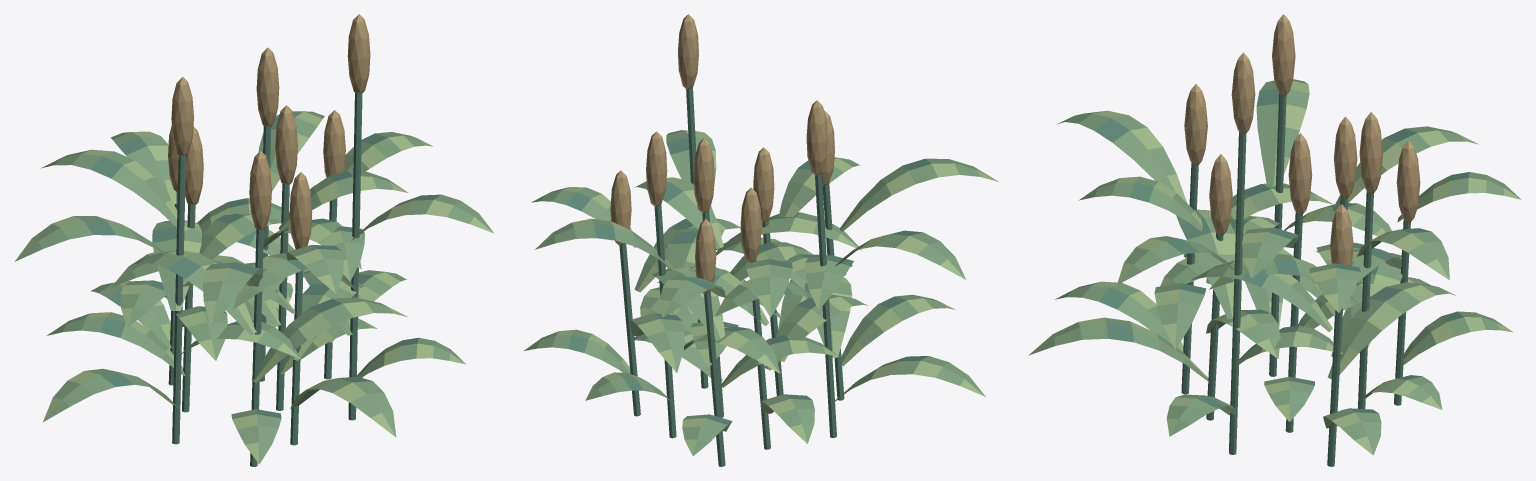
Rendered from reed_patch.glb.
3 views of the same model, side by side, from view 1: azimuth 30°, elevation 25°; view 2: azimuth 150°, elevation 25°; view 3: azimuth 270°, elevation 25° (orthographic). The views are drawn at different scales.
Visible parts, largest first — view 1: Curved reed leaf.007, Curved reed leaf.029, Curved reed leaf.008, Curved reed leaf.019, Curved reed leaf.004, Curved reed leaf.031, Curved reed leaf.016, Reed stem.004, Curved reed leaf.027, Curved reed leaf.023, Reed stem.005, Curved reed leaf.030 (+35 smaller); view 2: Curved reed leaf.031, Curved reed leaf.028, Curved reed leaf.016, Curved reed leaf.019, Curved reed leaf.015, Curved reed leaf.033, Curved reed leaf.032, Reed stem.004, Curved reed leaf.007, Curved reed leaf.005, Curved reed leaf.011, Curved reed leaf.004 (+35 smaller); view 3: Curved reed leaf.031, Curved reed leaf.033, Curved reed leaf.019, Curved reed leaf.008, Reed stem.005, Curved reed leaf.028, Curved reed leaf.022, Curved reed leaf.011, Curved reed leaf.034, Curved reed leaf.029, Curved reed leaf.007, Curved reed leaf.024 (+35 smaller).
Boxes of the visible parts, box(x1,y1,x2,y2) form: Curved reed leaf.007: box(41, 149, 187, 232); Curved reed leaf.029: box(251, 297, 407, 382); Curved reed leaf.008: box(290, 376, 396, 437); Curved reed leaf.019: box(14, 216, 173, 261); Curved reed leaf.004: box(46, 312, 184, 376); Curved reed leaf.031: box(203, 262, 261, 326); Curved reed leaf.016: box(43, 368, 178, 421); Reed stem.004: box(172, 155, 185, 444); Curved reed leaf.027: box(110, 131, 176, 204); Curved reed leaf.023: box(351, 194, 494, 240); Reed stem.005: box(348, 92, 362, 420); Curved reed leaf.030: box(132, 250, 256, 335); Curved reed leaf.031: box(839, 158, 998, 231); Curved reed leaf.028: box(841, 294, 955, 366); Curved reed leaf.016: box(833, 356, 985, 402); Curved reed leaf.019: box(834, 230, 966, 279); Curved reed leaf.015: box(535, 218, 673, 269); Curved reed leaf.033: box(629, 313, 684, 372); Curved reed leaf.032: box(524, 329, 630, 373); Reed stem.004: box(815, 173, 836, 437); Curved reed leaf.007: box(745, 259, 792, 317); Curved reed leaf.005: box(764, 294, 868, 370); Curved reed leaf.011: box(778, 157, 860, 217); Curved reed leaf.004: box(760, 394, 814, 443); Curved reed leaf.031: box(1057, 110, 1186, 202); Curved reed leaf.033: box(1327, 282, 1456, 378); Curved reed leaf.019: box(1256, 79, 1309, 186); Curved reed leaf.008: box(1028, 317, 1208, 381); Reed stem.005: box(1229, 132, 1246, 454); Curved reed leaf.028: box(1055, 281, 1183, 352); Curved reed leaf.022: box(1176, 209, 1235, 319); Curved reed leaf.011: box(1079, 176, 1202, 231); Curved reed leaf.034: box(1191, 260, 1332, 332); Curved reed leaf.029: box(1154, 283, 1206, 349); Curved reed leaf.007: box(1332, 126, 1478, 211); Curved reed leaf.024: box(1402, 311, 1512, 365).
Size of the model in its own units: 1.46 by 1.26 by 1.38.
